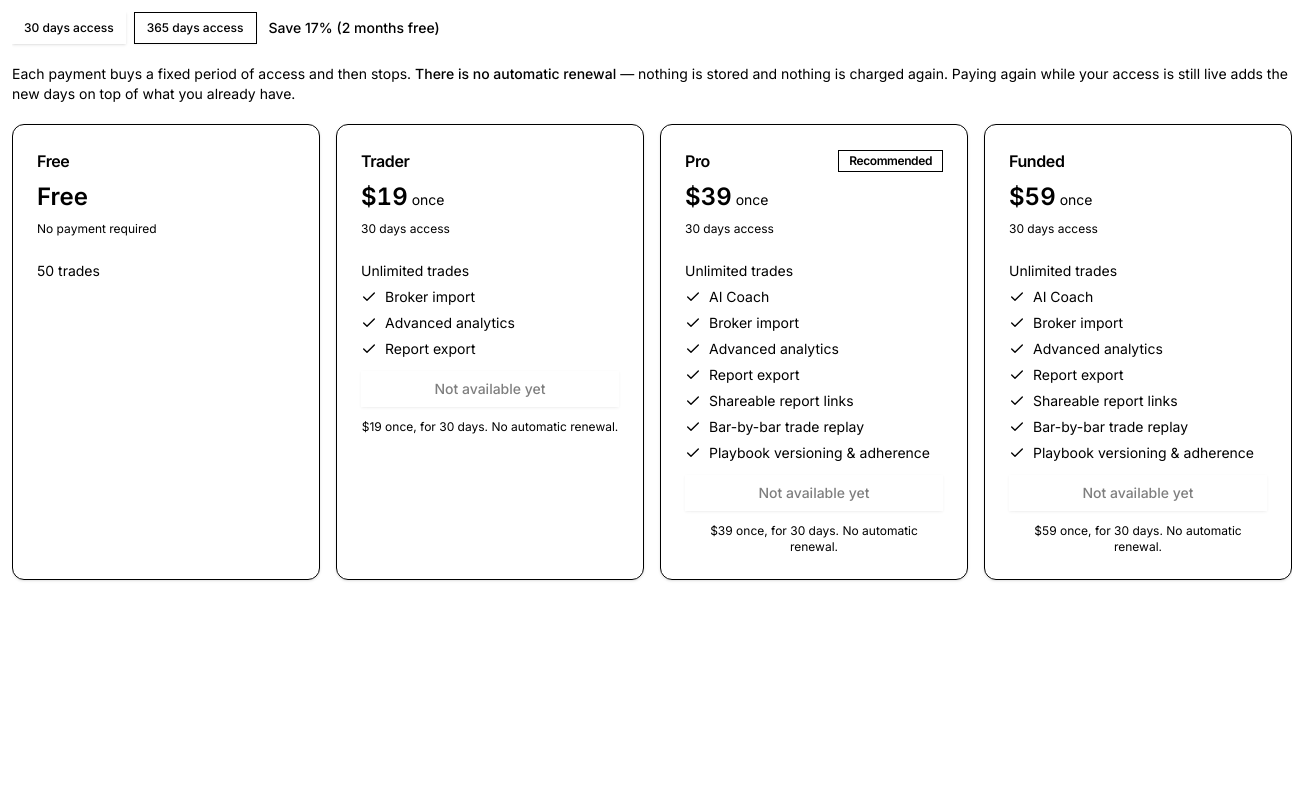
Scenario: one-time purchase is offered symmetrically › quotes the same prices as the public pricing page, as one-off amounts
What coordinates should you click on to do the following:
click the button "365 days access"
I would click on:
 (195, 28)
Its box is x1=134 y1=12 x2=256 y2=44.
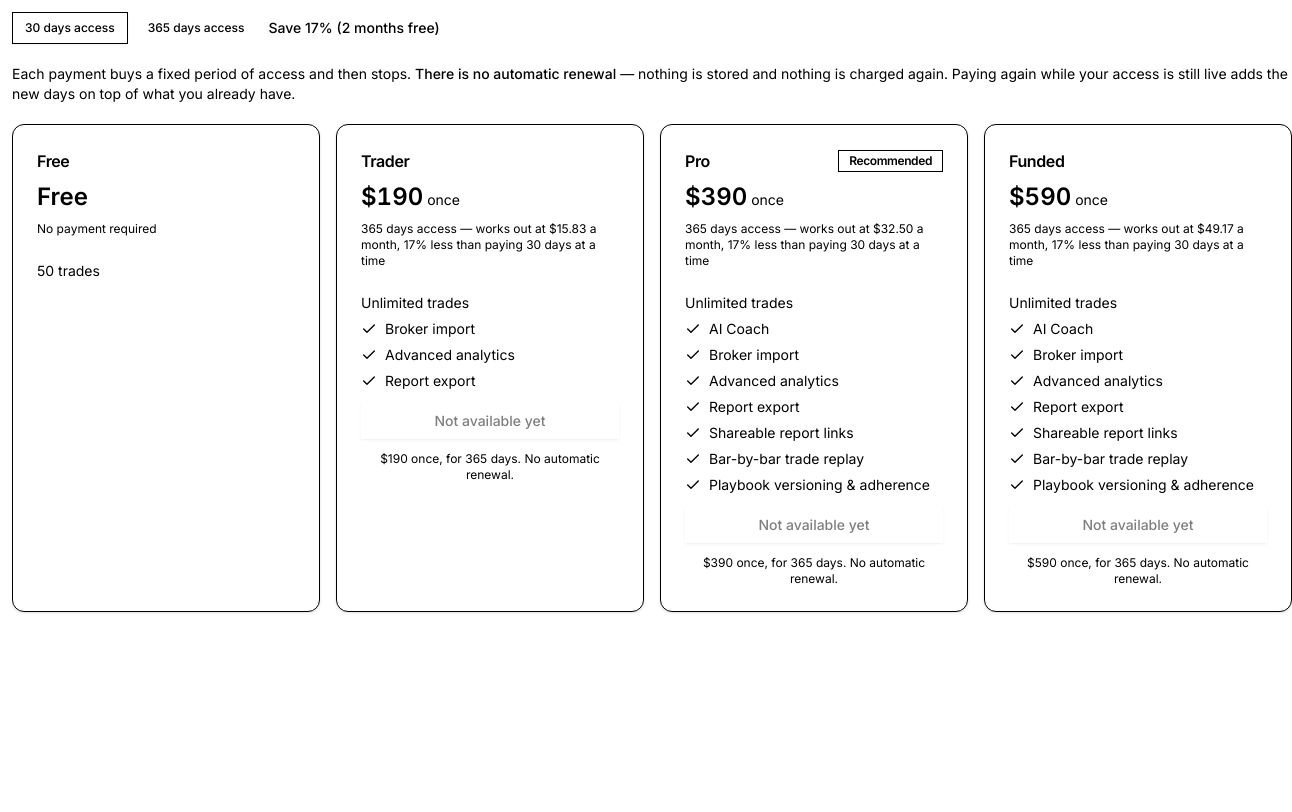
Now the text "365 days access — works out at" is shown, box x1=685 y1=221 x2=924 y2=268
